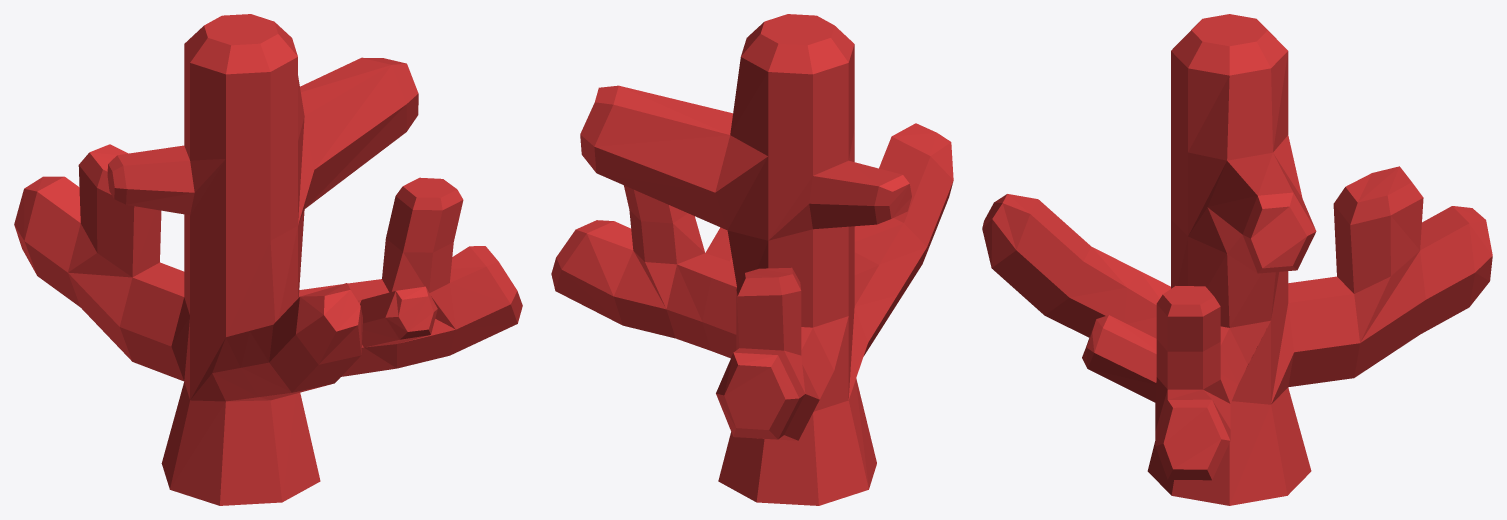
The model's file is coral reef_02.fbx.
3 renders of one model, left to right at view 1: azimuth 30°, elevation 25°; view 2: azimuth 150°, elevation 25°; view 3: azimuth 270°, elevation 25°, orthographic.
Parts seen in each view (by area): view 1: Cylinder001; view 2: Cylinder001; view 3: Cylinder001.
Boxes of the visible parts, bbox=[...] form: Cylinder001: bbox=[14, 14, 522, 505]; Cylinder001: bbox=[551, 14, 953, 505]; Cylinder001: bbox=[982, 14, 1492, 505].
Size of the model in its own units: 102 by 114 by 120.
